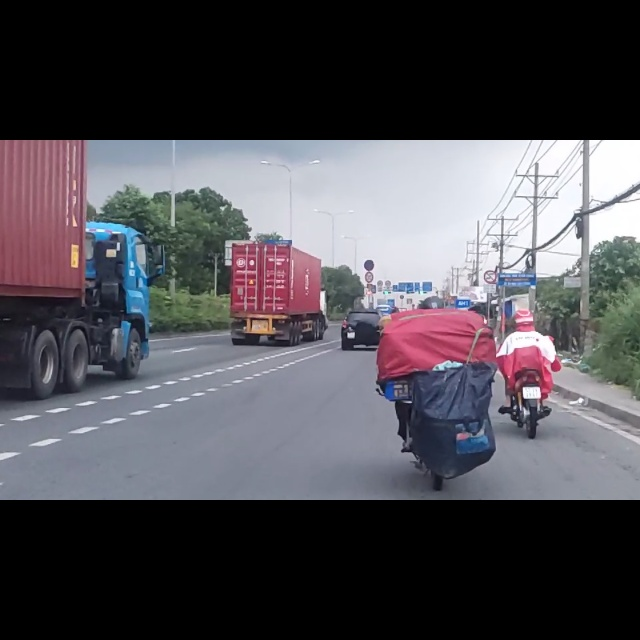bien_nguy_hiem: (484, 231, 497, 256), (363, 212, 375, 232)
